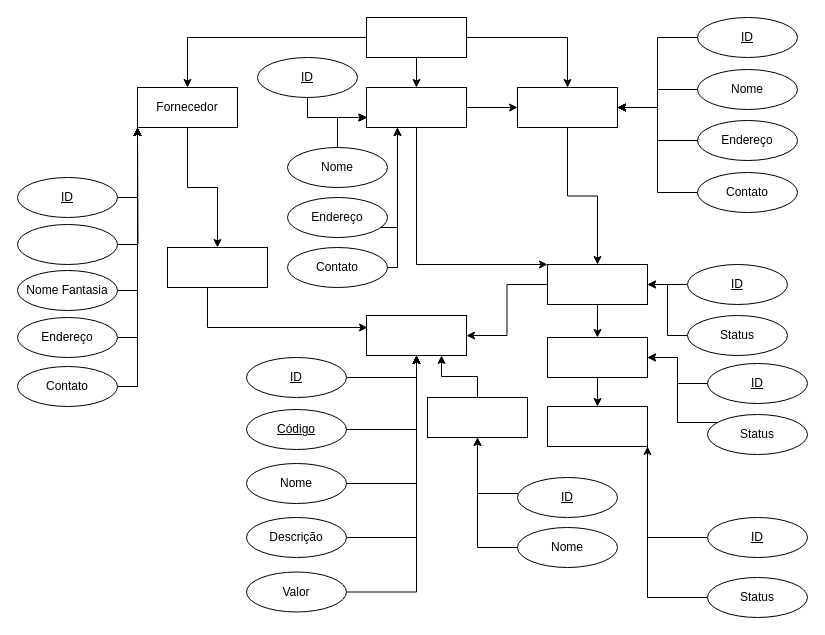
The diagram is 825 pixels wide and 635 high, and some of its shapes have lost their labels. The box of each missing label's shape, as (x1, y1, x2, y2) in pixels:
Categoria: (426, 396, 528, 438)
Cliente: (516, 86, 618, 128)
E-Commerce: (366, 16, 466, 58)
Entrega: (546, 406, 648, 446)
Estoque: (166, 246, 268, 288)
Pagamento: (546, 336, 648, 378)
Pedido: (546, 264, 648, 304)
Produto: (366, 314, 466, 356)
Razão Social: (16, 224, 118, 264)
Vendedor: (366, 86, 466, 128)
